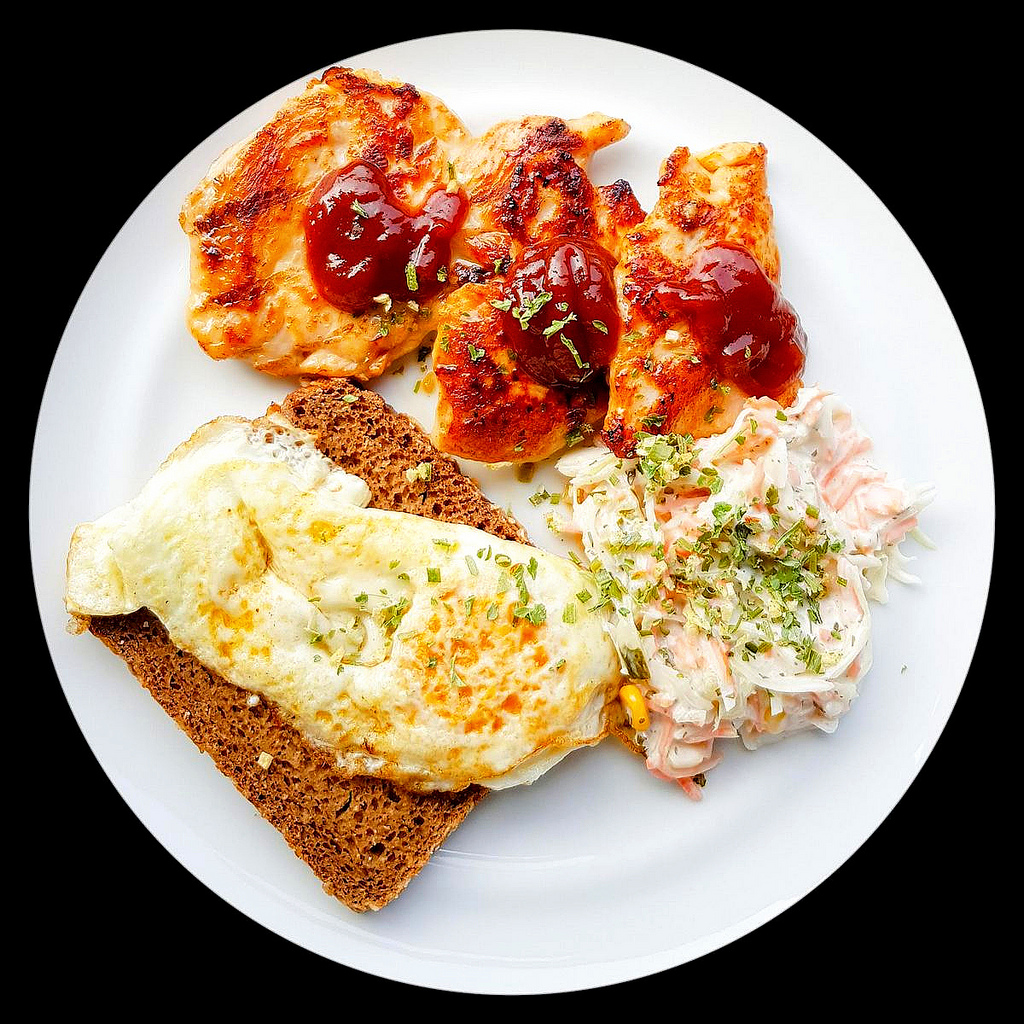fried egg: (67, 410, 631, 790)
slice of bread: (74, 396, 585, 918)
